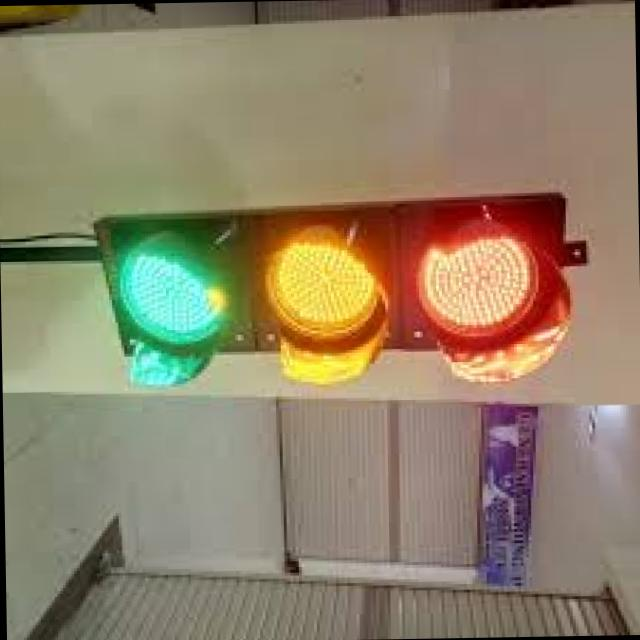green-lights: (116, 236, 224, 340)
red-lights: (409, 218, 538, 350)
yellow-lights: (260, 222, 380, 342)
